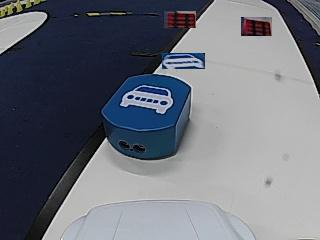safety: (121, 85, 175, 113)
